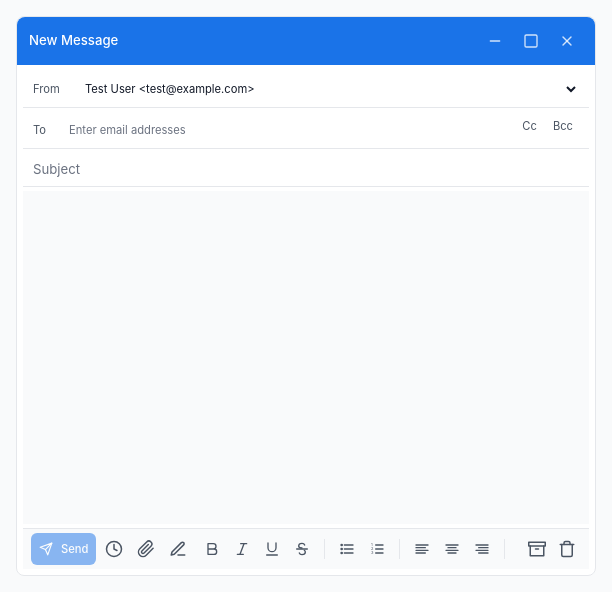
ComposeWindow - template picker › opens template picker when template button is clicked
Expected: the field with placeholder "Subject" is shown, [33,160,579,180]
Click the button titled "Insert template".
click(178, 549)  # box [164,535,192,563]
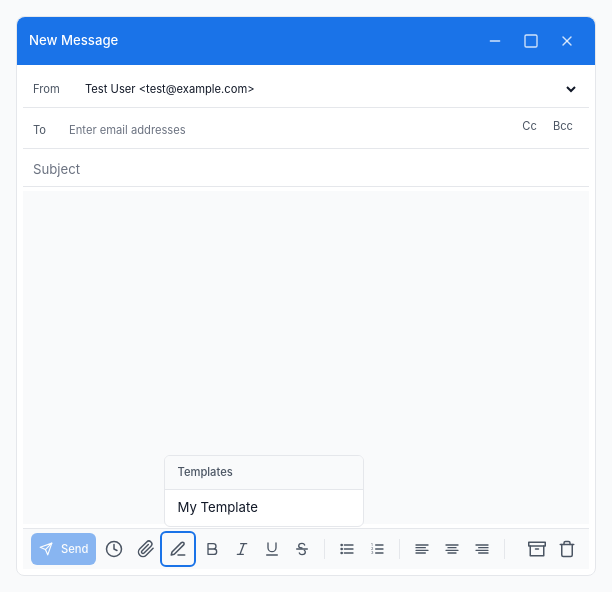
Now the button "My Template" is shown, box [166,490,364,526]
